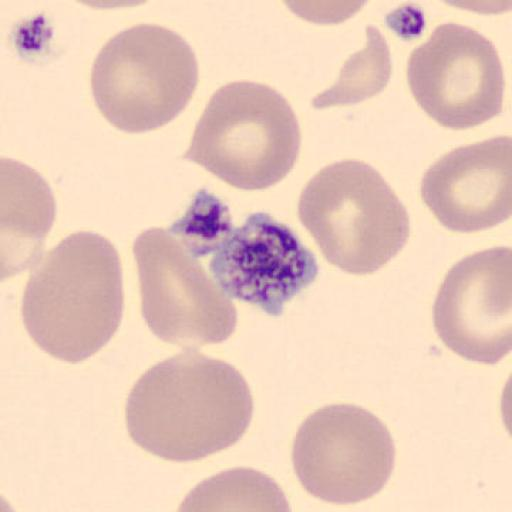Platelet: (206, 209, 324, 319)
RBC: (123, 346, 255, 462), (20, 228, 126, 366), (295, 156, 413, 278), (186, 78, 303, 193), (132, 223, 240, 347), (86, 22, 200, 136), (290, 400, 398, 508), (404, 20, 506, 131), (431, 243, 512, 366), (418, 134, 512, 236), (2, 154, 58, 282), (309, 25, 394, 108), (172, 464, 294, 512), (279, 0, 377, 27), (428, 0, 512, 17), (499, 346, 512, 452), (55, 0, 170, 11), (499, 366, 512, 446)
